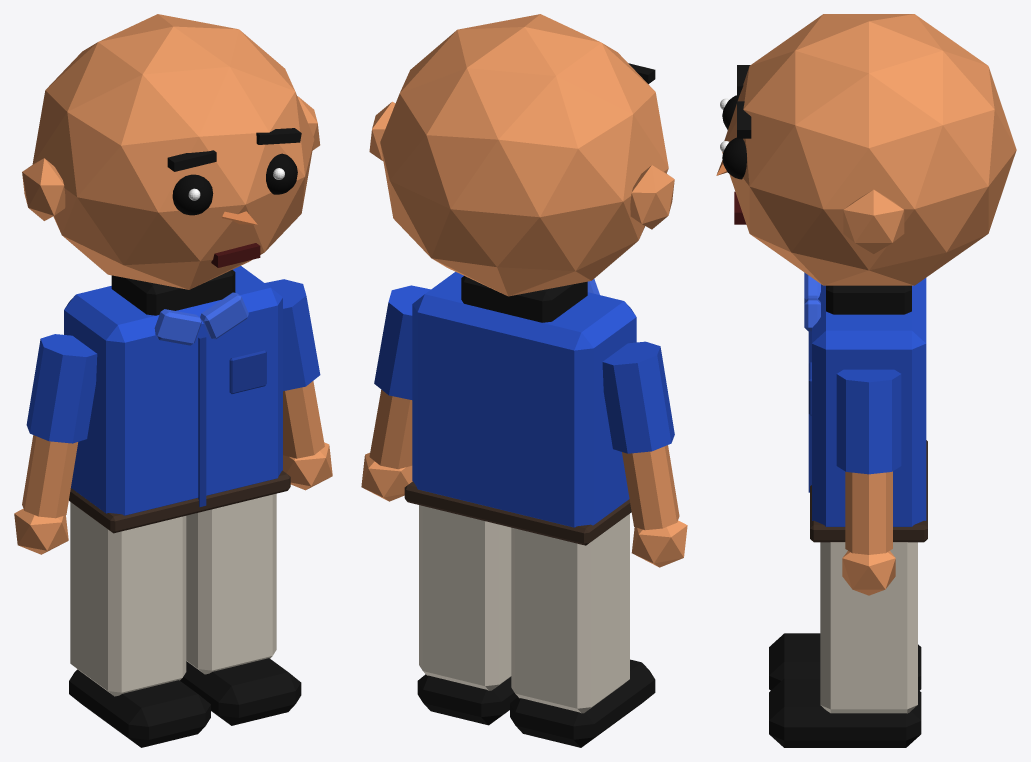
The model's file is ah-hock.glb.
The picture shows the model from 3 angles, left to right: view 1: azimuth 30°, elevation 25°; view 2: azimuth 150°, elevation 25°; view 3: azimuth 270°, elevation 25°; orthographic projection. The views are drawn at different scales.
Visible parts, largest first — view 1: AH_head, AH_torso, AH_leg_R, AH_leg_L, AH_sleeve_R, AH_shoe_R, AH_shoe_L, AH_forearm_R, AH_belt, AH_sleeve_L, AH_neck, AH_forearm_L (+12 smaller); view 2: AH_head, AH_torso, AH_leg_R, AH_leg_L, AH_sleeve_R, AH_shoe_R, AH_belt, AH_forearm_R, AH_sleeve_L, AH_shoe_L, AH_neck, AH_forearm_L (+4 smaller); view 3: AH_head, AH_torso, AH_leg_L, AH_shoe_L, AH_sleeve_L, AH_forearm_L, AH_ear_L, AH_shoe_R, AH_neck, AH_hand_L, AH_belt, AH_eye_L.
Part boxes in pixels (x1,y1,x2,y2): AH_head: (32, 14, 314, 289); AH_torso: (64, 266, 282, 515); AH_leg_R: (70, 502, 186, 696); AH_leg_L: (186, 493, 276, 674); AH_sleeve_R: (26, 334, 97, 443); AH_shoe_R: (69, 669, 210, 747); AH_shoe_L: (180, 658, 301, 725); AH_forearm_R: (22, 435, 78, 518); AH_belt: (69, 470, 290, 533); AH_sleeve_L: (265, 279, 320, 391); AH_neck: (111, 270, 235, 315); AH_forearm_L: (283, 381, 324, 458); AH_head: (380, 14, 668, 296); AH_torso: (412, 272, 636, 527); AH_leg_R: (511, 514, 629, 713); AH_leg_L: (419, 505, 511, 690); AH_sleeve_R: (602, 341, 674, 453); AH_shoe_R: (510, 659, 655, 747); AH_belt: (404, 481, 631, 545); AH_forearm_R: (622, 445, 679, 530); AH_sleeve_L: (374, 285, 430, 399); AH_shoe_L: (417, 674, 517, 725); AH_neck: (461, 276, 587, 322); AH_forearm_L: (369, 390, 412, 469); AH_head: (722, 14, 1016, 285); AH_torso: (812, 278, 926, 526); AH_leg_L: (820, 542, 917, 713); AH_shoe_L: (769, 678, 921, 747); AH_sleeve_L: (836, 369, 901, 474); AH_forearm_L: (845, 471, 892, 554); AH_ear_L: (843, 189, 904, 253); AH_shoe_R: (769, 633, 921, 690); AH_neck: (826, 285, 911, 314); AH_hand_L: (842, 551, 895, 595); AH_belt: (810, 440, 927, 542); AH_eye_L: (722, 137, 746, 179).
Size of the model in its own units: 0.7739 by 1.6 by 0.6306.
